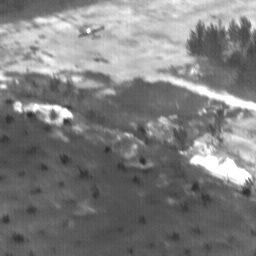aircraft: (88, 30, 90, 32)
